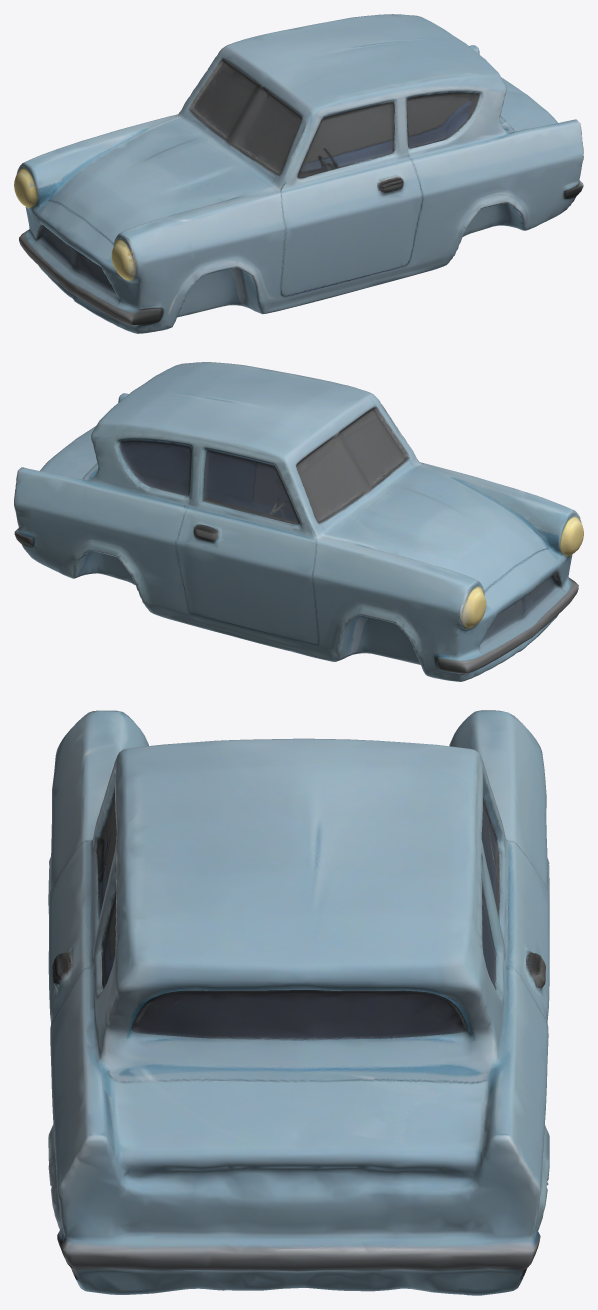
The model's file is car.glb.
3 views of the same model, one above another, from view 1: azimuth 30°, elevation 25°; view 2: azimuth 150°, elevation 25°; view 3: azimuth 270°, elevation 25° (orthographic). The views are drawn at different scales.
Size of the model in its own units: 2 by 0.787 by 0.9394.
1 material, 1 textured.
